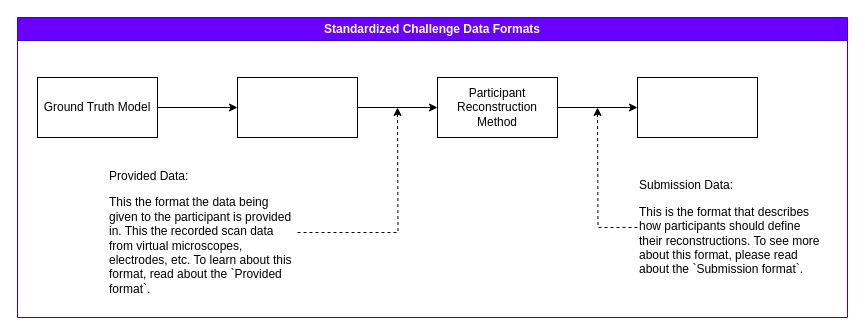
This 865x335 diagram has some shape labels left out. The shapes that lost their labels are listed below. From the top down, each one's centre as x and y in pixels, then its label:
the point at 297,107: Simulated Data Acquisition
the point at 697,107: Validate Against Ground Truth
